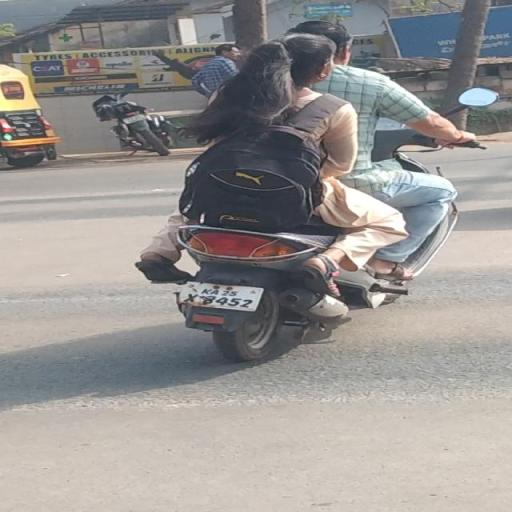bike: (136, 10, 490, 368)
numberplate: (180, 276, 265, 316)
withouthelmet: (268, 34, 332, 86), (302, 22, 348, 64)
